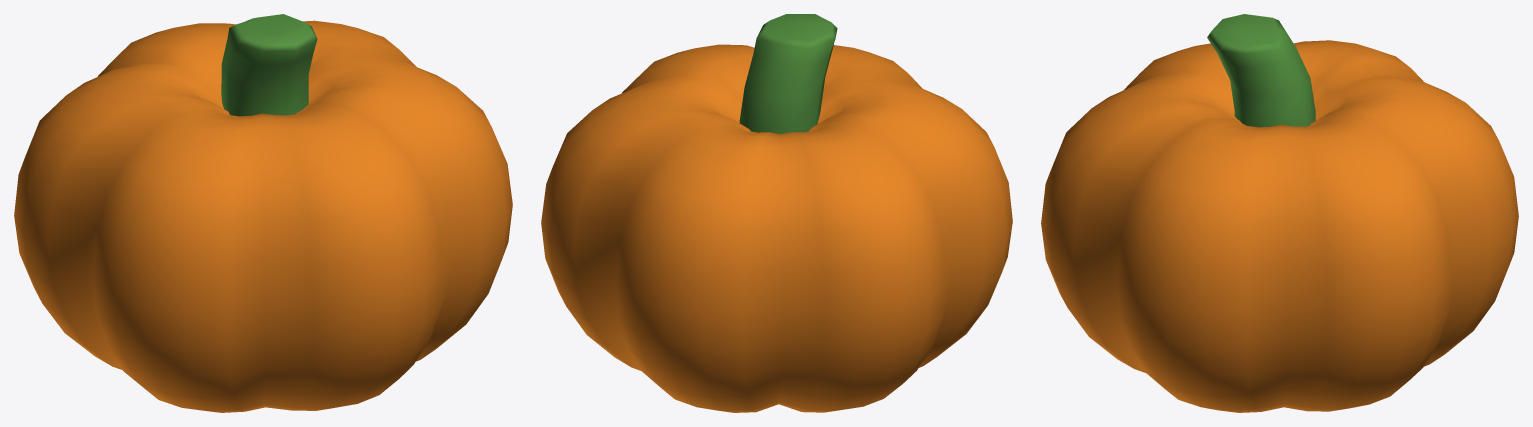
Rendered from Pumpkin.fbx.
3 views of the same model, side by side, from view 1: azimuth 30°, elevation 25°; view 2: azimuth 150°, elevation 25°; view 3: azimuth 270°, elevation 25° (orthographic). The views are drawn at different scales.
Parts seen in each view (by area): view 1: Pumpkin; view 2: Pumpkin; view 3: Pumpkin.
Boxes of the visible parts, box(x1,y1,x2,y2) form: Pumpkin: box(14, 14, 512, 412); Pumpkin: box(541, 14, 1012, 412); Pumpkin: box(1041, 14, 1518, 412).
Size of the model in its own units: 30.76 by 25.76 by 33.02.
